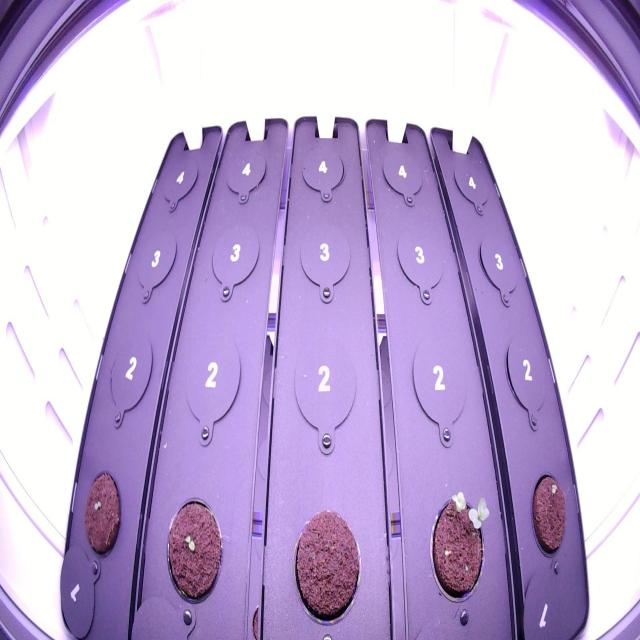empty_pod: (286, 330, 364, 440), (406, 329, 473, 438), (180, 328, 242, 438), (103, 327, 163, 424), (292, 215, 356, 299), (500, 325, 554, 420), (204, 213, 262, 299), (129, 223, 180, 306), (392, 221, 448, 296), (474, 224, 524, 305), (295, 143, 349, 202), (219, 144, 272, 202), (377, 143, 428, 203), (158, 149, 202, 216), (448, 150, 492, 214)
germination: (418, 473, 494, 612), (158, 490, 227, 610), (528, 464, 572, 569), (79, 466, 127, 561)
pod: (285, 500, 368, 628)
